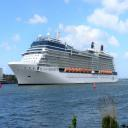cruises: (8, 26, 120, 87)
